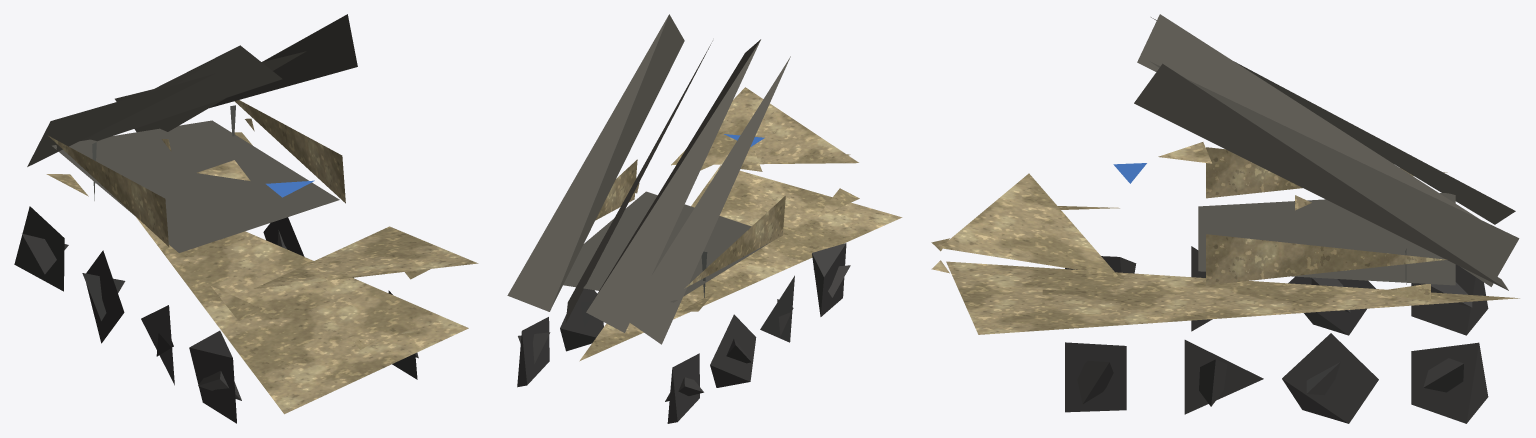
The model's file is sam_e4_us_launcher_LOD2.glb.
3 renders of one model, left to right at view 1: azimuth 30°, elevation 25°; view 2: azimuth 150°, elevation 25°; view 3: azimuth 270°, elevation 25°, orthographic. The views are drawn at different scales.
Visible parts, largest first — view 1: sam_e4_us_launcher_LOD2_body, sam_e4_us_launcher_LOD2_deck, sam_e4_us_launcher_LOD2_track; view 2: sam_e4_us_launcher_LOD2_deck, sam_e4_us_launcher_LOD2_body, sam_e4_us_launcher_LOD2_track; view 3: sam_e4_us_launcher_LOD2_deck, sam_e4_us_launcher_LOD2_body, sam_e4_us_launcher_LOD2_track.
Part boxes in pixels (bbox=[...]): sam_e4_us_launcher_LOD2_body: bbox=[46, 100, 478, 414]; sam_e4_us_launcher_LOD2_deck: bbox=[27, 14, 357, 252]; sam_e4_us_launcher_LOD2_track: bbox=[14, 206, 418, 423]; sam_e4_us_launcher_LOD2_deck: bbox=[507, 14, 790, 344]; sam_e4_us_launcher_LOD2_body: bbox=[579, 87, 902, 361]; sam_e4_us_launcher_LOD2_track: bbox=[517, 243, 850, 423]; sam_e4_us_launcher_LOD2_deck: bbox=[1134, 14, 1519, 290]; sam_e4_us_launcher_LOD2_body: bbox=[931, 142, 1519, 334]; sam_e4_us_launcher_LOD2_track: bbox=[1065, 246, 1488, 423].
Size of the model in its own units: 3.04 by 4.9 by 7.57.
Materials: 5 (1 with a texture image).
